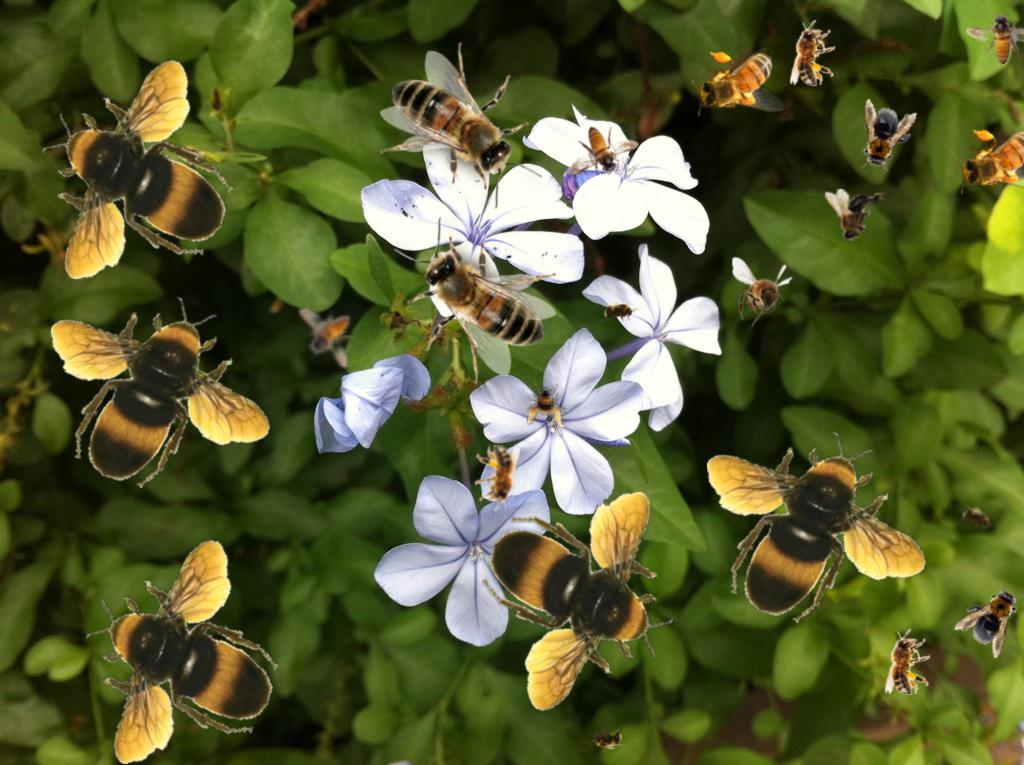Bee: (80, 535, 284, 765), (42, 59, 233, 279), (707, 432, 927, 623), (51, 297, 271, 488), (482, 492, 673, 712), (380, 42, 542, 209), (394, 217, 556, 384), (692, 48, 785, 116), (952, 573, 1024, 659), (296, 295, 364, 378), (850, 98, 918, 178), (958, 0, 1024, 75), (955, 126, 1024, 194), (732, 257, 793, 327), (568, 126, 639, 176), (825, 189, 887, 242), (790, 20, 835, 86), (885, 629, 930, 695), (475, 445, 520, 511), (525, 383, 569, 427), (954, 499, 1000, 539), (599, 301, 639, 323), (587, 728, 627, 750)
